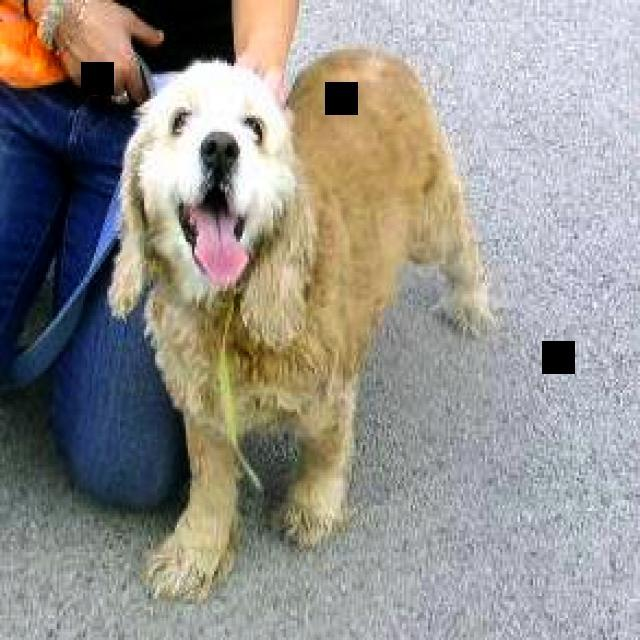adult_dog: (115, 45, 499, 605)
